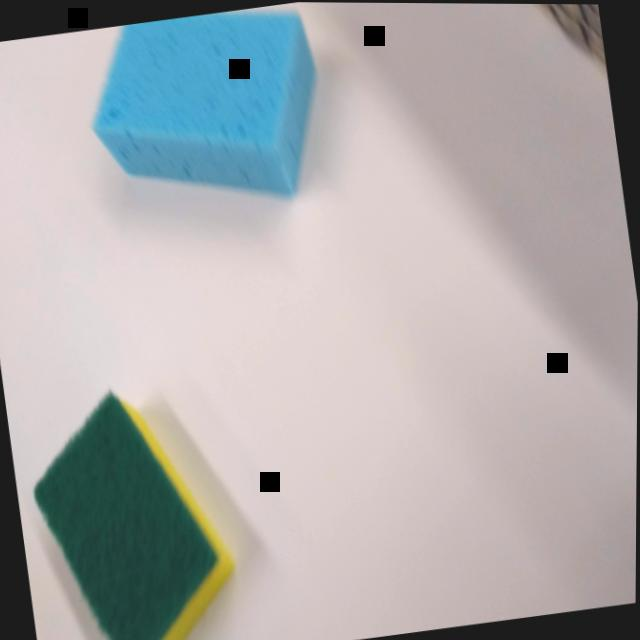scrubby: (18, 366, 263, 640)
